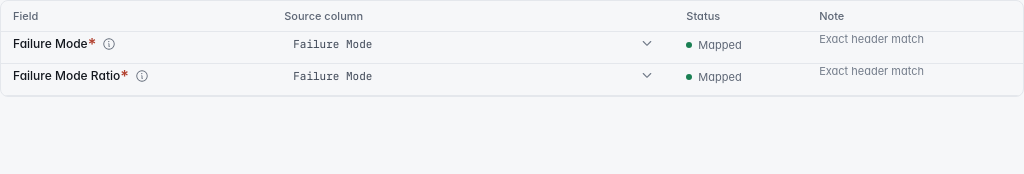
Scenario: MappingTable — Phase 2 infrastructure › only one help panel is expanded at a time
The image size is (1024, 174).
Click the button named "about failure mode" at (109, 44), box [100,34,118,52]
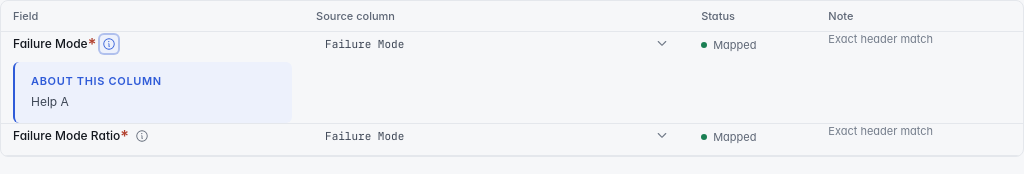
Result: the button named "about failure mode" is expanded at [100,34,118,52]
Result: the text "Help A" is shown at [31,94,69,108]
Click the button named "about failure mode ratio" at (142, 136), box [133,127,151,145]
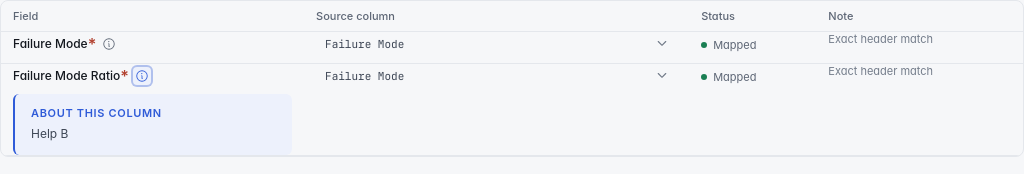
Result: the button named "about failure mode" is collapsed at [100,34,118,52]
Result: the button named "about failure mode ratio" is expanded at [133,66,151,84]
Result: the text "Help A" is gone
